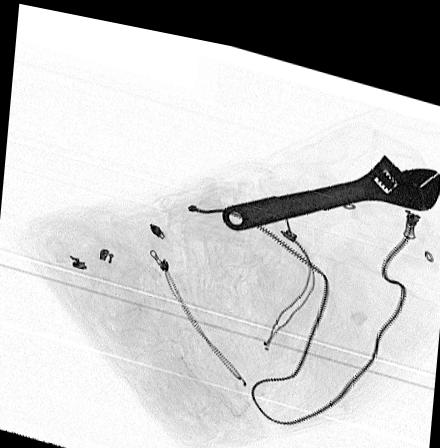Wrench: (218, 140, 440, 222)
